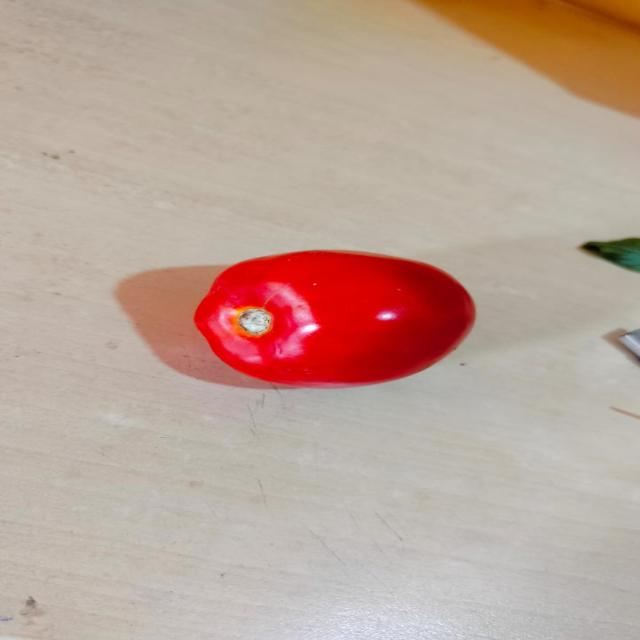tomato: (191, 251, 477, 392)
